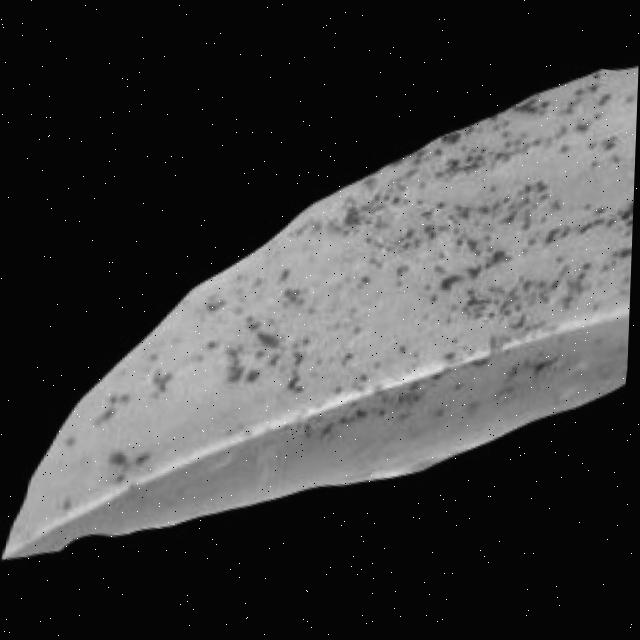mite: (78, 231, 382, 515), (103, 443, 136, 480), (531, 344, 560, 371), (280, 279, 309, 304), (253, 322, 284, 345), (150, 363, 175, 390), (203, 287, 228, 311), (107, 443, 131, 465), (134, 444, 155, 466), (611, 234, 634, 254), (244, 360, 263, 381)
